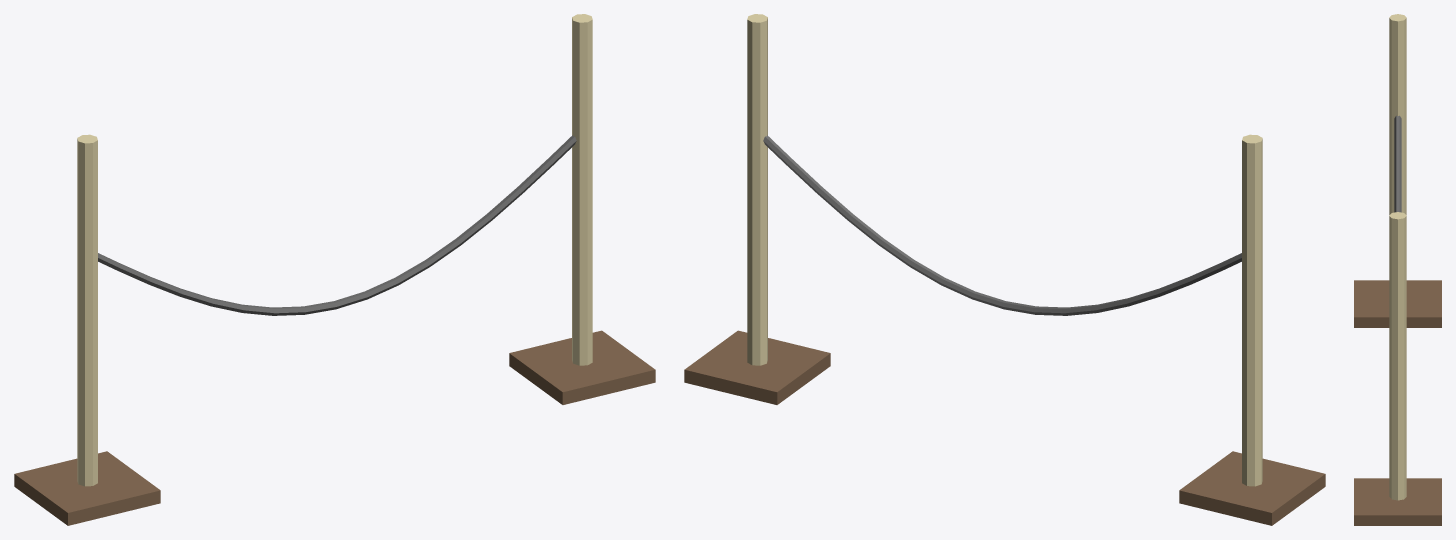
The model's file is Lompat_Tali.fbx.
The picture shows the model from 3 angles, left to right: view 1: azimuth 30°, elevation 25°; view 2: azimuth 150°, elevation 25°; view 3: azimuth 270°, elevation 25°; orthographic projection. The views are drawn at different scales.
Visible parts, largest first — view 1: Lompat_Tali; view 2: Lompat_Tali; view 3: Lompat_Tali.
Part boxes in pixels (left/top/right/bottom): Lompat_Tali: left=14, top=14, right=655, bottom=525; Lompat_Tali: left=684, top=14, right=1325, bottom=525; Lompat_Tali: left=1354, top=14, right=1441, bottom=525.
Size of the model in its own units: 1.9 by 1.1 by 0.3.
